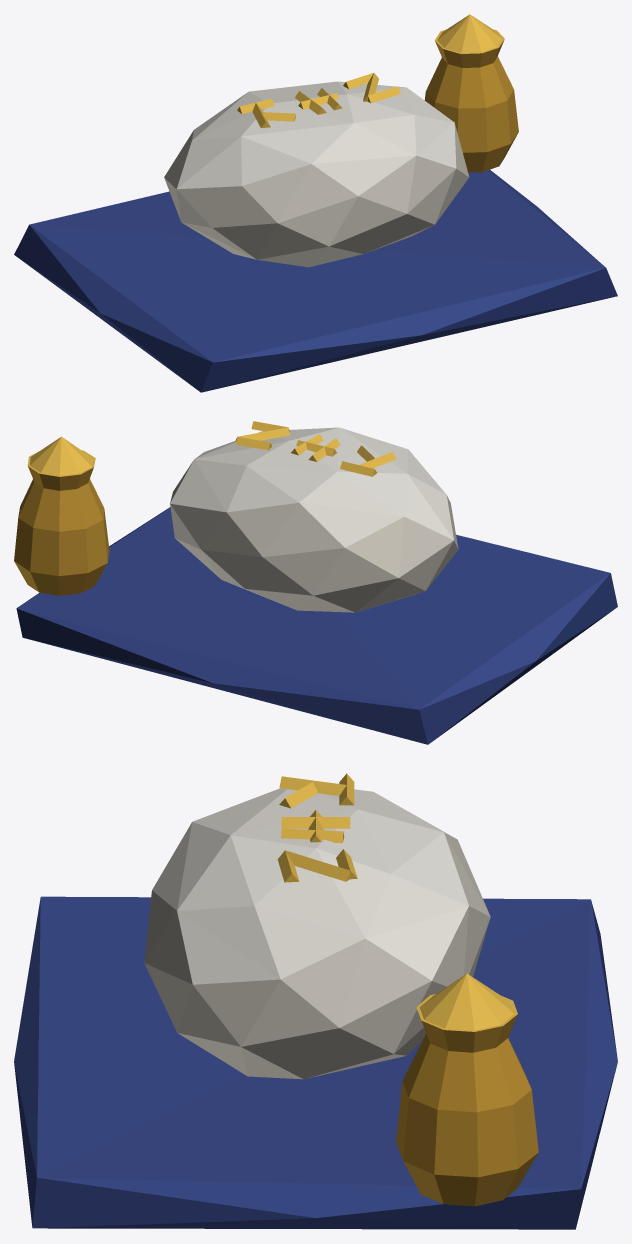
The model's file is whitestone.glb.
3 views of the same model, one above another, from view 1: azimuth 30°, elevation 25°; view 2: azimuth 150°, elevation 25°; view 3: azimuth 270°, elevation 25° (orthographic). The views are drawn at different scales.
Visible parts, largest first — view 1: base, letters_m; view 2: base, letters_m; view 3: base, letters_m.
Part boxes in pixels (bbox=[...]): base: bbox=[14, 14, 617, 392]; letters_m: bbox=[237, 72, 400, 127]; base: bbox=[14, 427, 617, 744]; letters_m: bbox=[235, 421, 396, 476]; base: bbox=[14, 788, 617, 1229]; letters_m: bbox=[277, 773, 357, 882].
Bounding box in the file's own units: 1.14 × 0.419 × 0.88.
